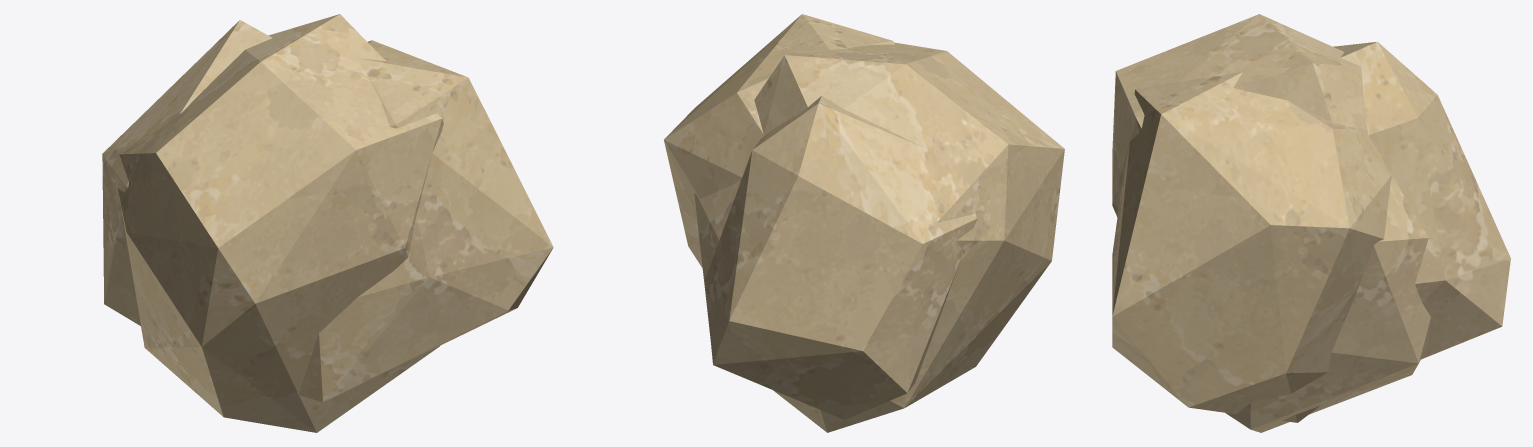
File: ground_bottom_interior_05.glb
3 views of the same model, side by side, from view 1: azimuth 30°, elevation 25°; view 2: azimuth 150°, elevation 25°; view 3: azimuth 270°, elevation 25° (orthographic). The views are drawn at different scales.
Parts seen in each view (by area): view 1: GroundBottomInterior05_Body; view 2: GroundBottomInterior05_Body; view 3: GroundBottomInterior05_Body.
Boxes of the visible parts, left/top/right/bottom form: GroundBottomInterior05_Body: left=102, top=14, right=553, bottom=432; GroundBottomInterior05_Body: left=664, top=14, right=1064, bottom=432; GroundBottomInterior05_Body: left=1112, top=14, right=1510, bottom=432.
Size of the model in its own units: 1 by 1.06 by 1.
Materials: 1 (1 with a texture image).
